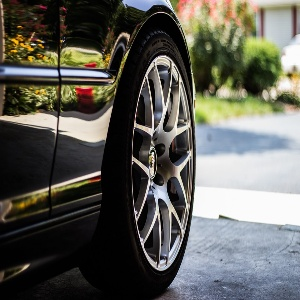train: (110, 25, 196, 293)
